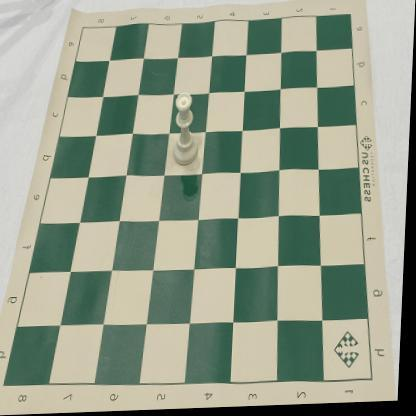white-queen: (173, 93, 202, 168)
